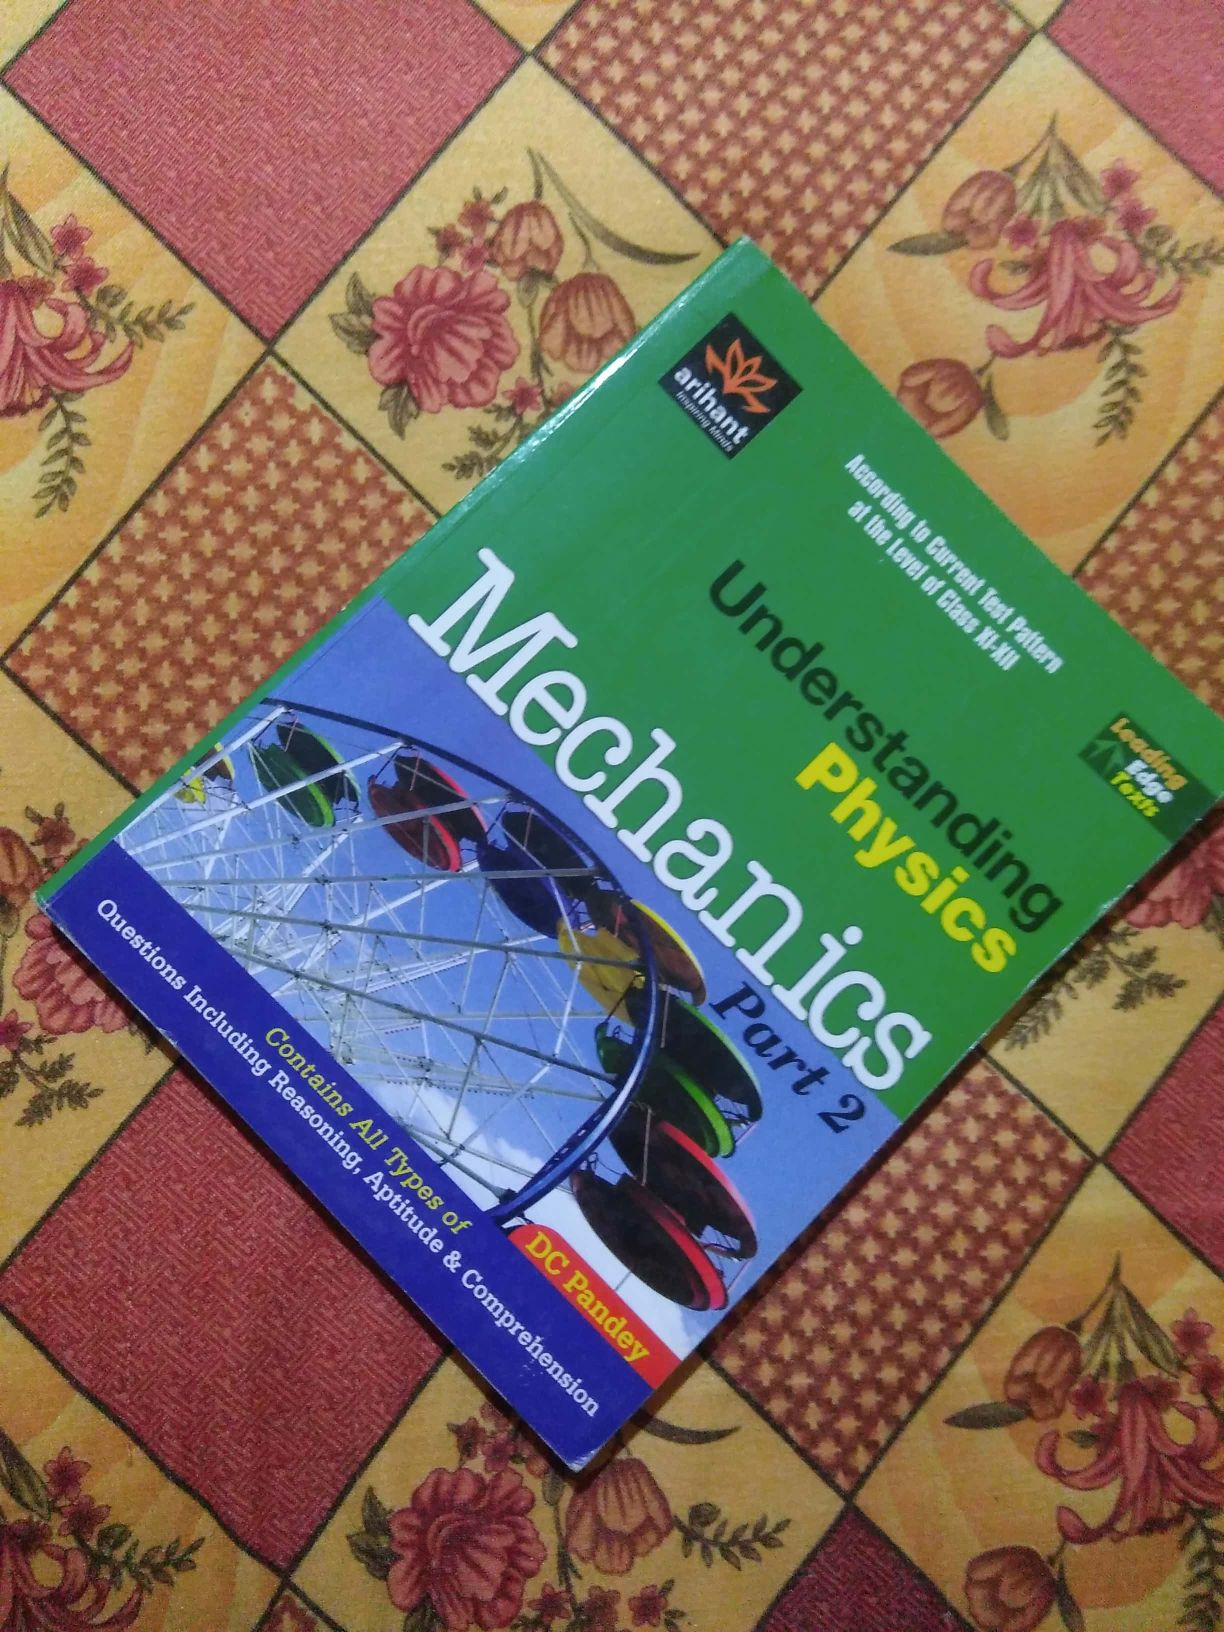mechanics: (63, 324, 1187, 1369)
